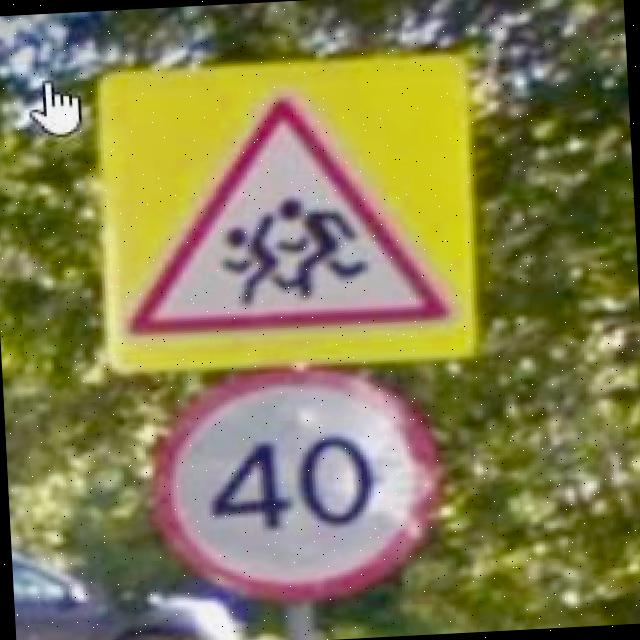Ograniczenie predkosci do 40: (147, 360, 446, 606)
Przejscie dla pieszych: (113, 91, 449, 336)
